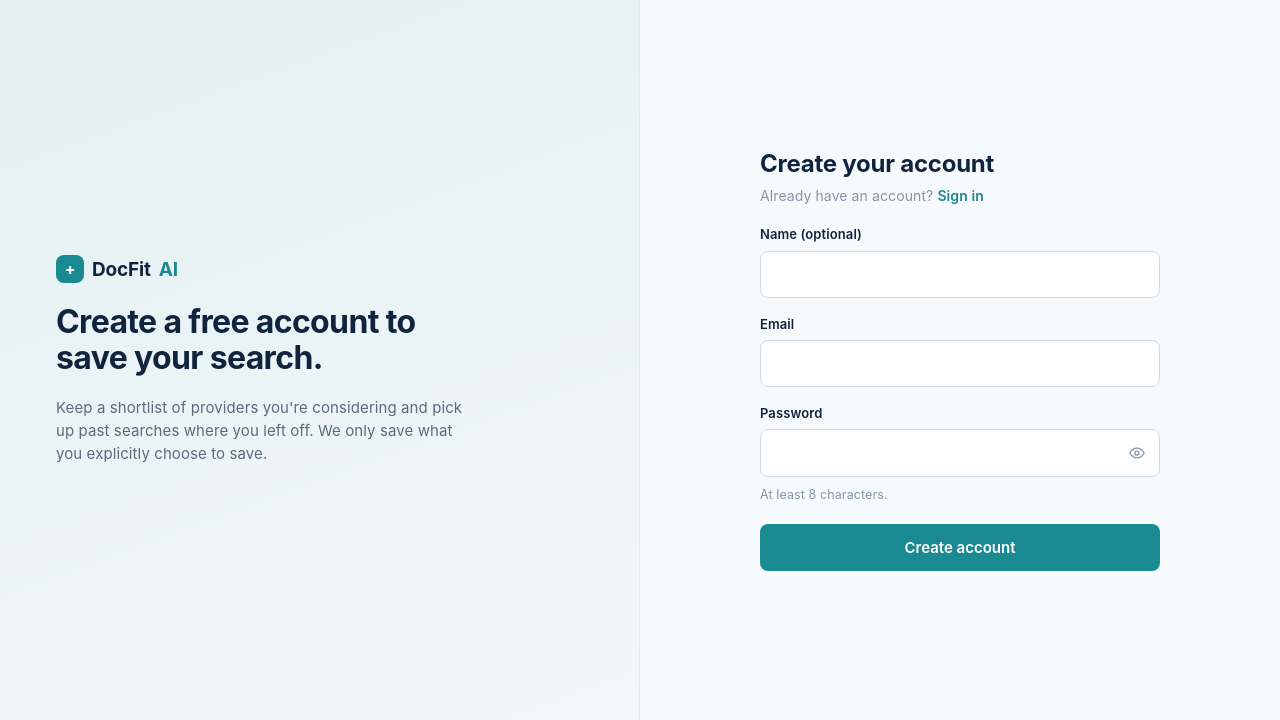
Test: RegisterPage › blocks submission with a client-side message when the password is too short
In the field labelled "Email": (960, 364) [760,340,1160,387], type "new@example.com"
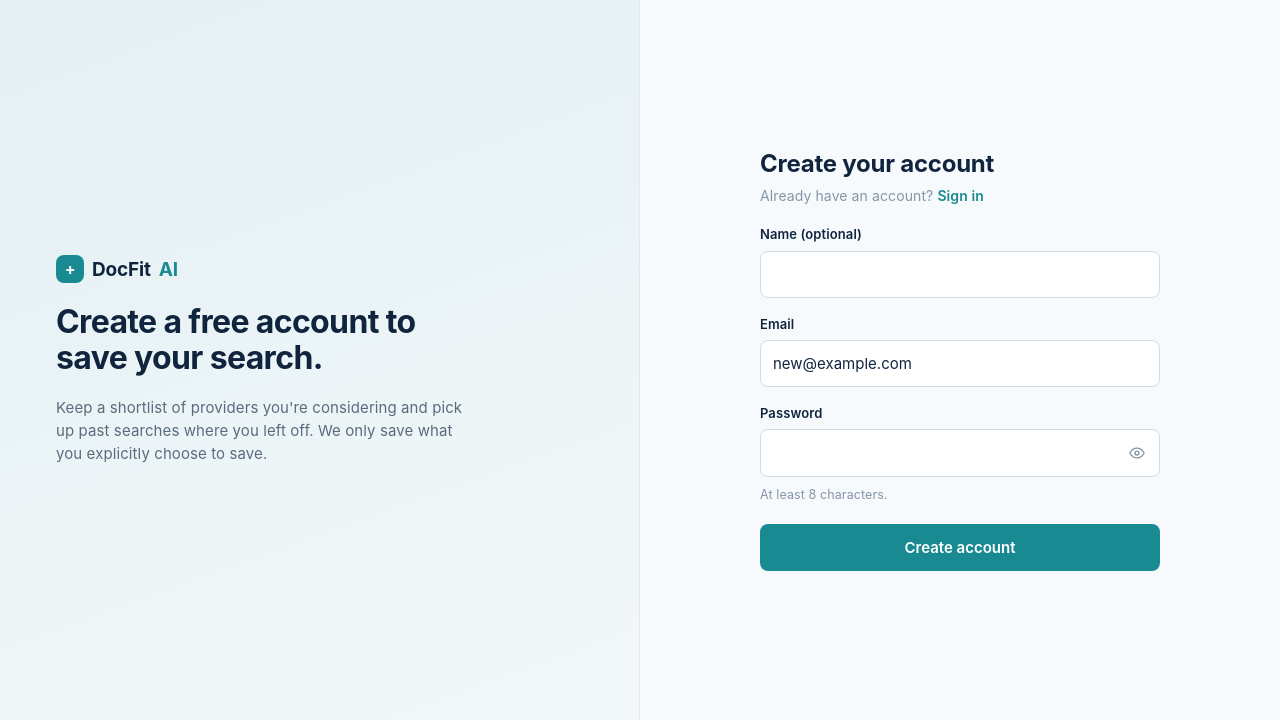
In the password field labelled "Password": (960, 453) [760,429,1160,477], type "short"
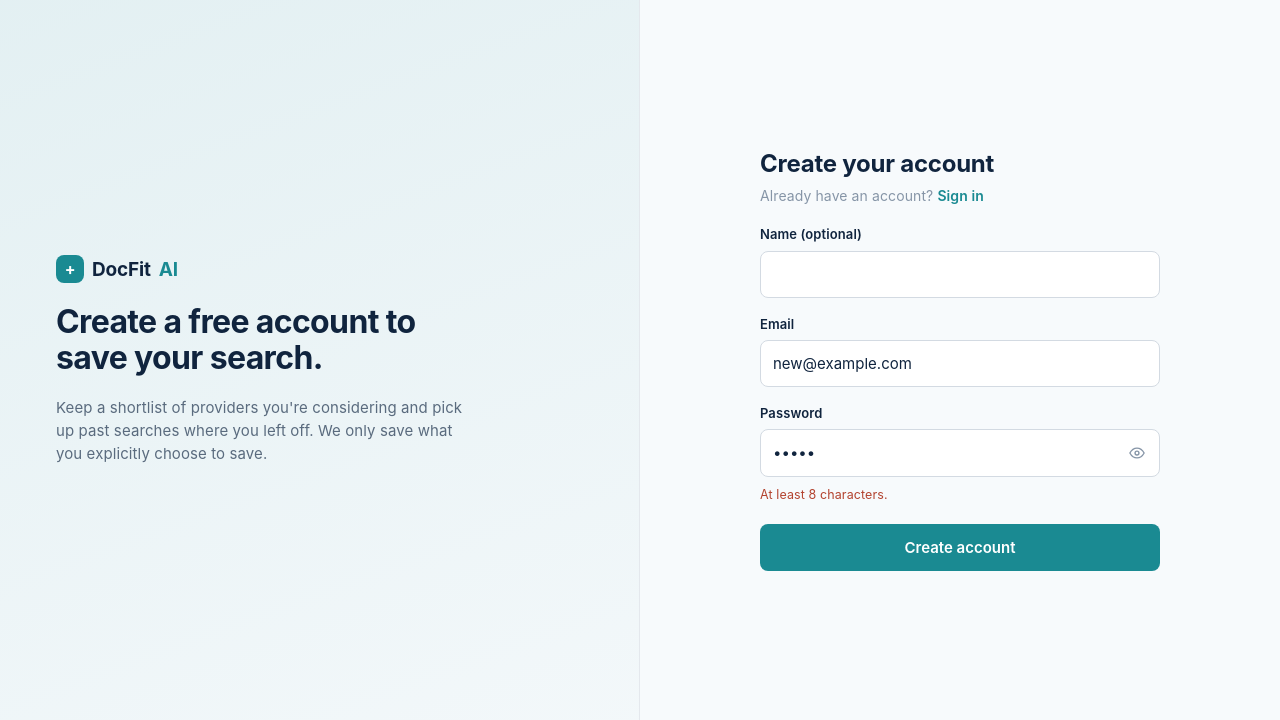
Click the button "Create account": (960, 548) [760,524,1160,571]
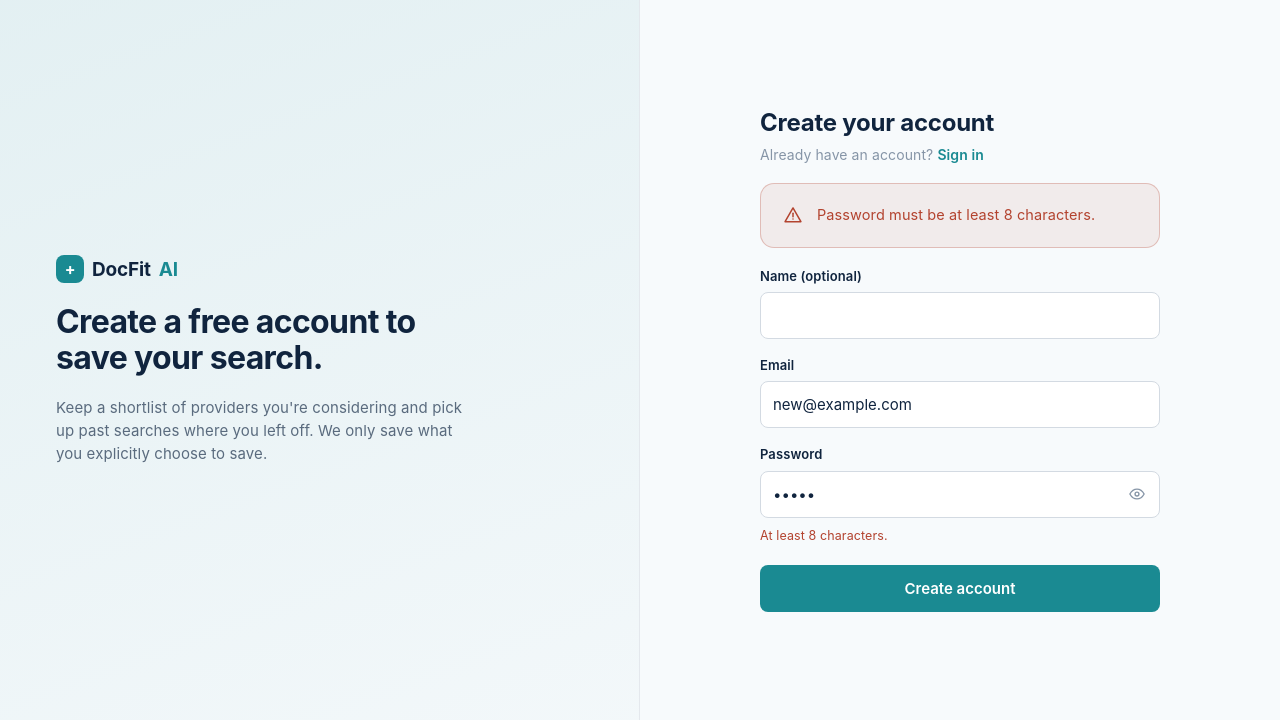
Now the text "Password must be at least 8 characters." is shown, box [817,204,1095,227]
